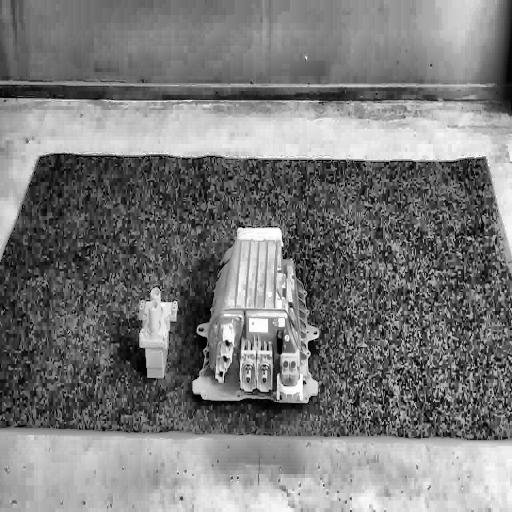bms_unit: (191, 225, 322, 405)
connector: (138, 286, 178, 381)
